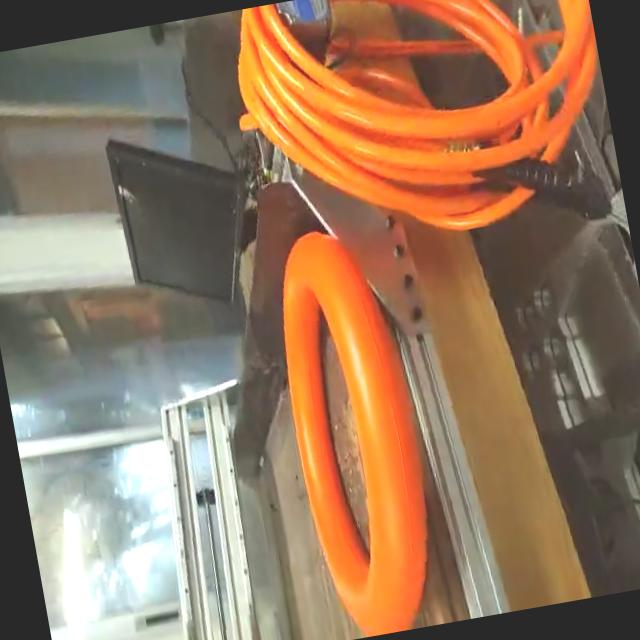note: (260, 220, 448, 640)
